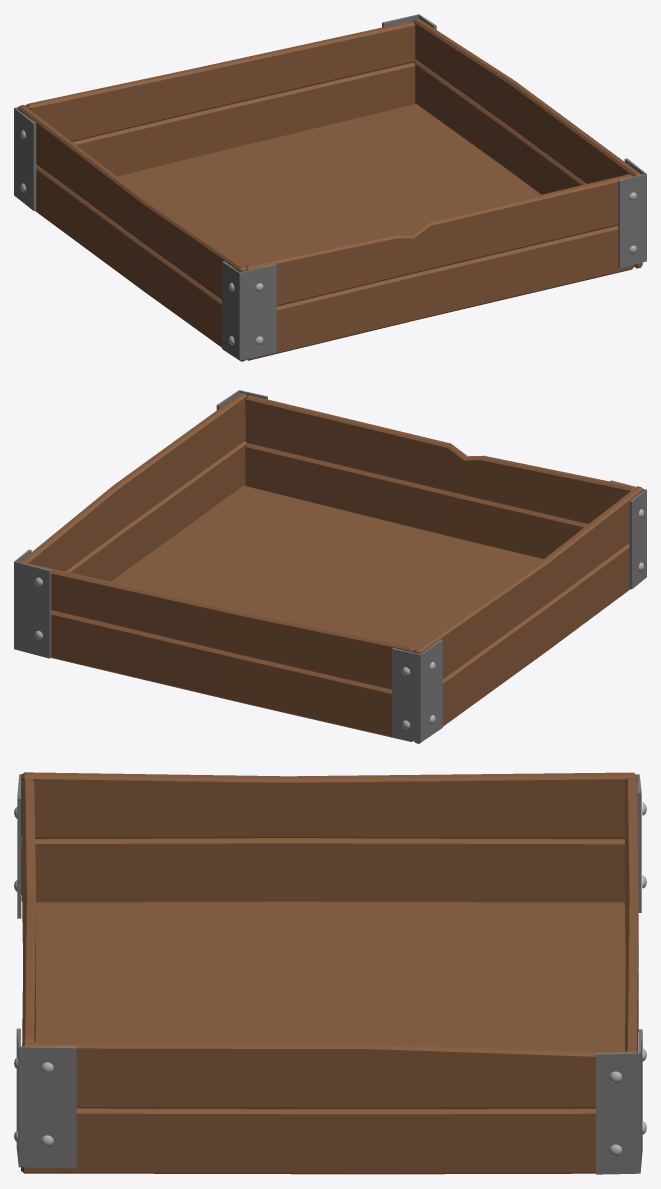
File: sandbox_low.fbx
3 views of the same model, one above another, from view 1: azimuth 30°, elevation 25°; view 2: azimuth 150°, elevation 25°; view 3: azimuth 270°, elevation 25° (orthographic). The views are drawn at different scales.
Parts seen in each view (by area): view 1: sandbox_lod0; view 2: sandbox_lod0; view 3: sandbox_lod0.
Boxes of the visible parts, box(x1,y1,x2,y2) form: sandbox_lod0: box(14, 14, 646, 361); sandbox_lod0: box(14, 390, 646, 743); sandbox_lod0: box(14, 772, 646, 1174).
Size of the model in its own units: 614 by 139 by 591.
